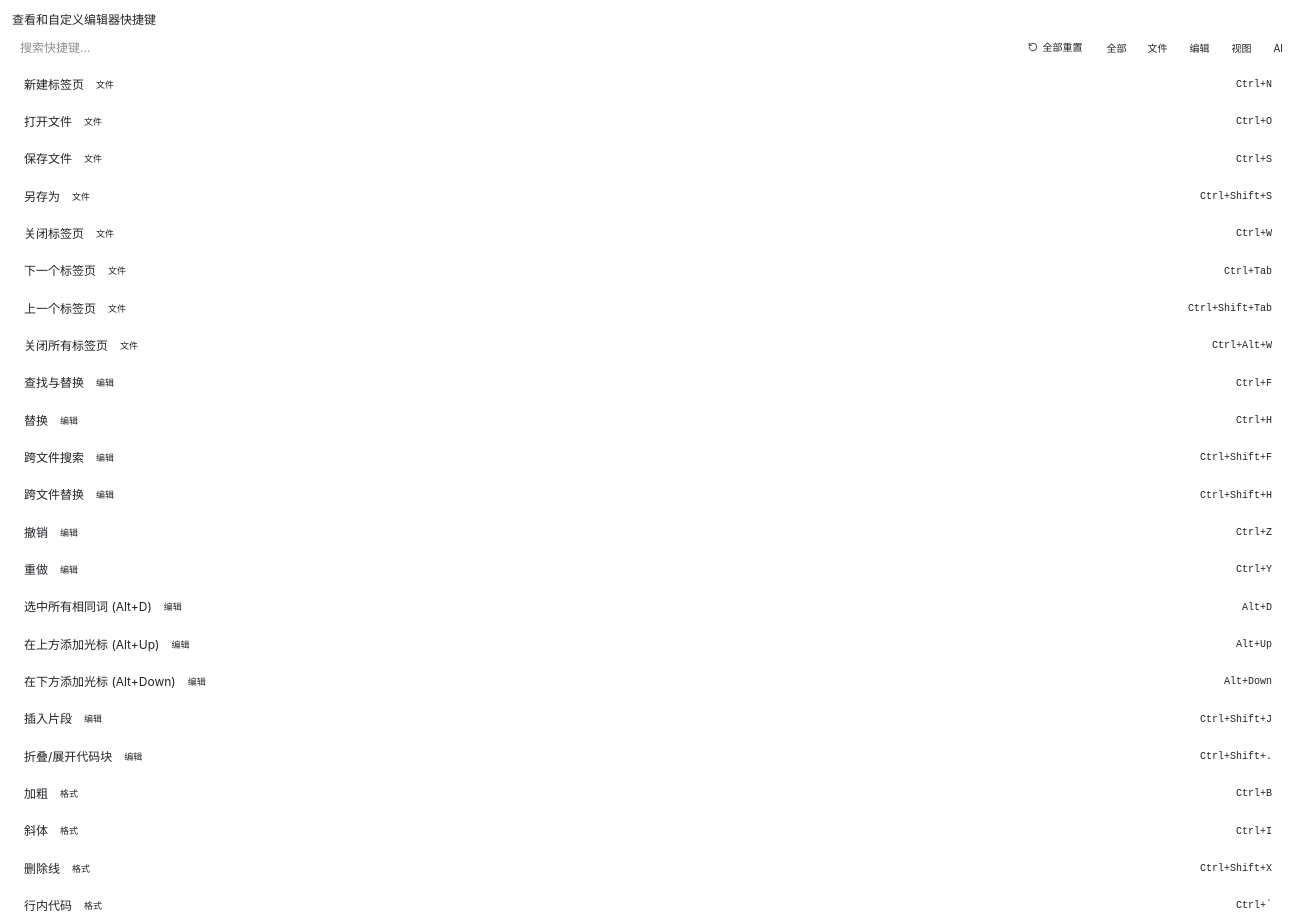
ShortcutsTab › shows no-results message when search yields nothing
Type "xyznotexist999" into the field at (512, 48), box x1=12 y1=36 x2=1012 y2=60
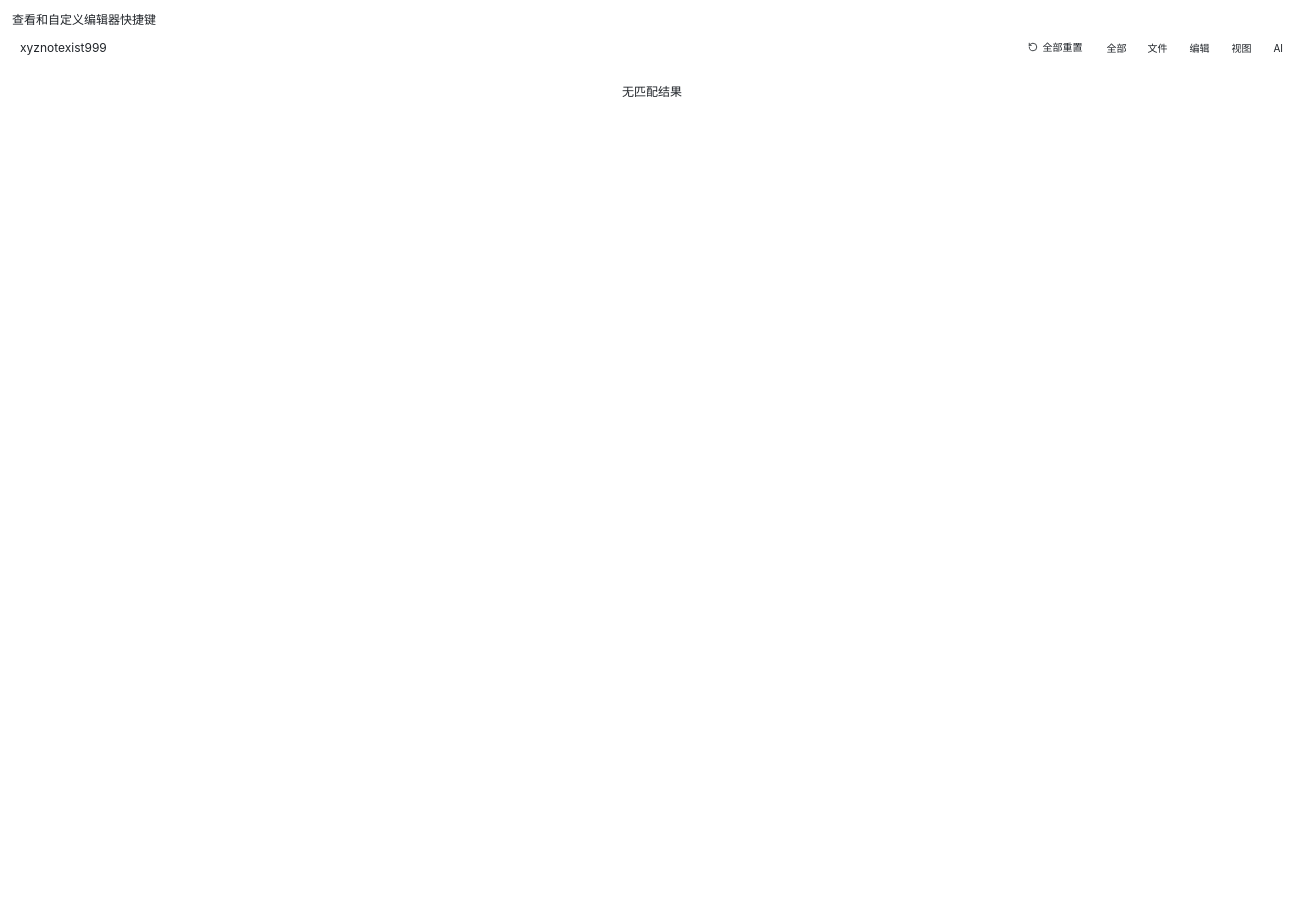
Expected: the text "无匹配结果" is shown, x1=622 y1=84 x2=682 y2=99
